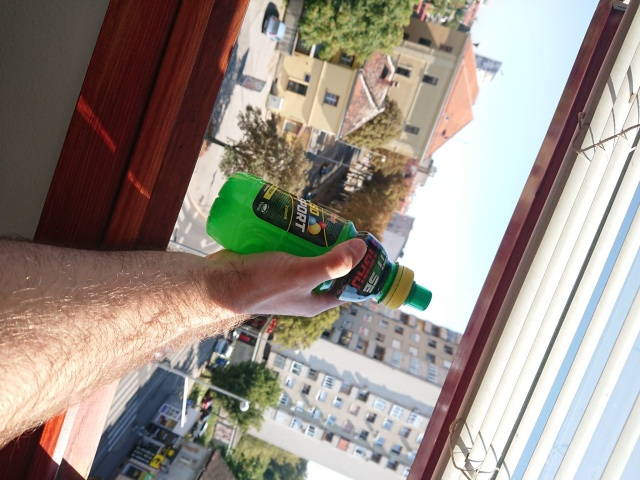Vindi Iso Sport Lemon-Grapefruit 500mL: (204, 169, 435, 313)
